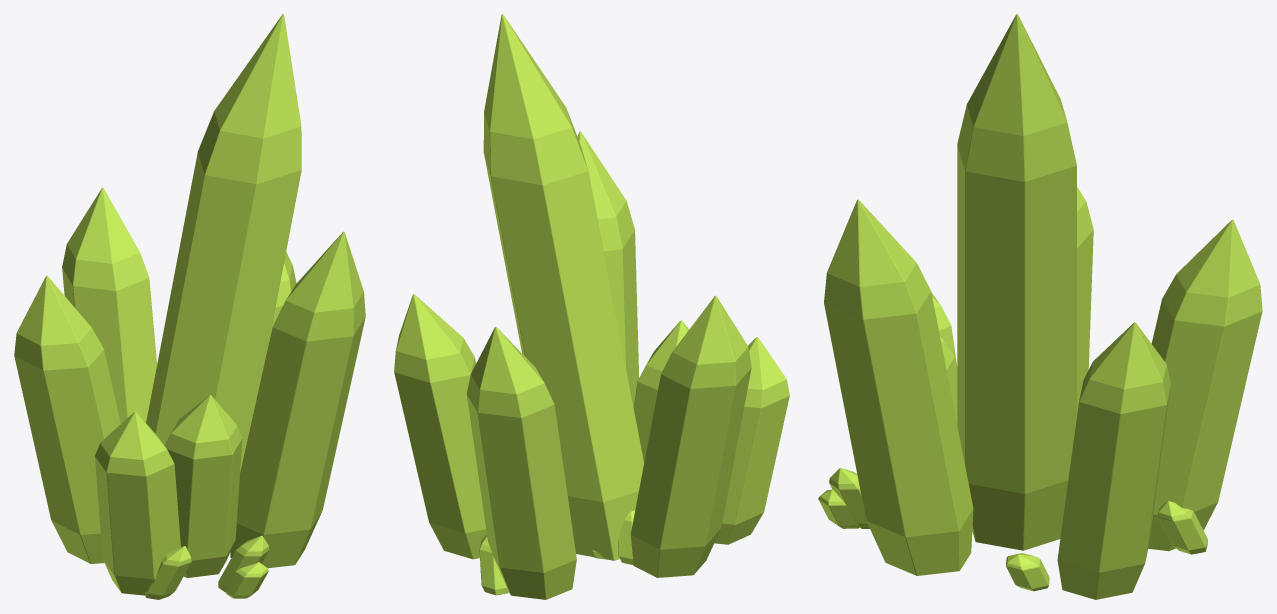
Rendered from lime-crystal.glb.
3 renders of one model, left to right at view 1: azimuth 30°, elevation 25°; view 2: azimuth 150°, elevation 25°; view 3: azimuth 270°, elevation 25°, orthographic. The views are drawn at different scales.
Parts seen in each view (by area): view 1: lime-crystal; view 2: lime-crystal; view 3: lime-crystal.
Boxes of the visible parts, x1,y1,x2,y2 form: lime-crystal: (14,14,365,599); lime-crystal: (394,14,789,599); lime-crystal: (818,14,1262,599).
Bounding box in the file's own units: 1.69 × 2.6 × 1.82.
